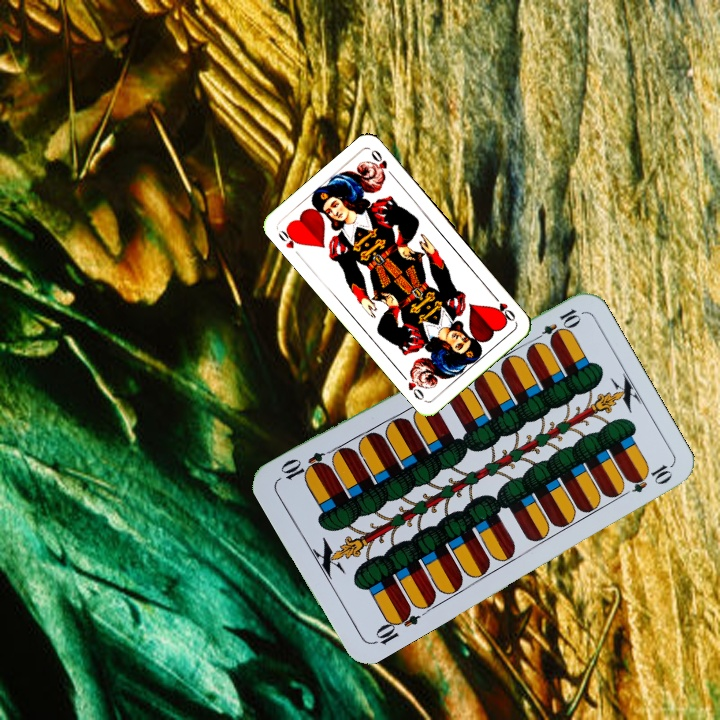E10: (368, 603, 422, 648), (528, 304, 583, 346)
HO: (274, 224, 304, 260), (488, 290, 518, 324)
